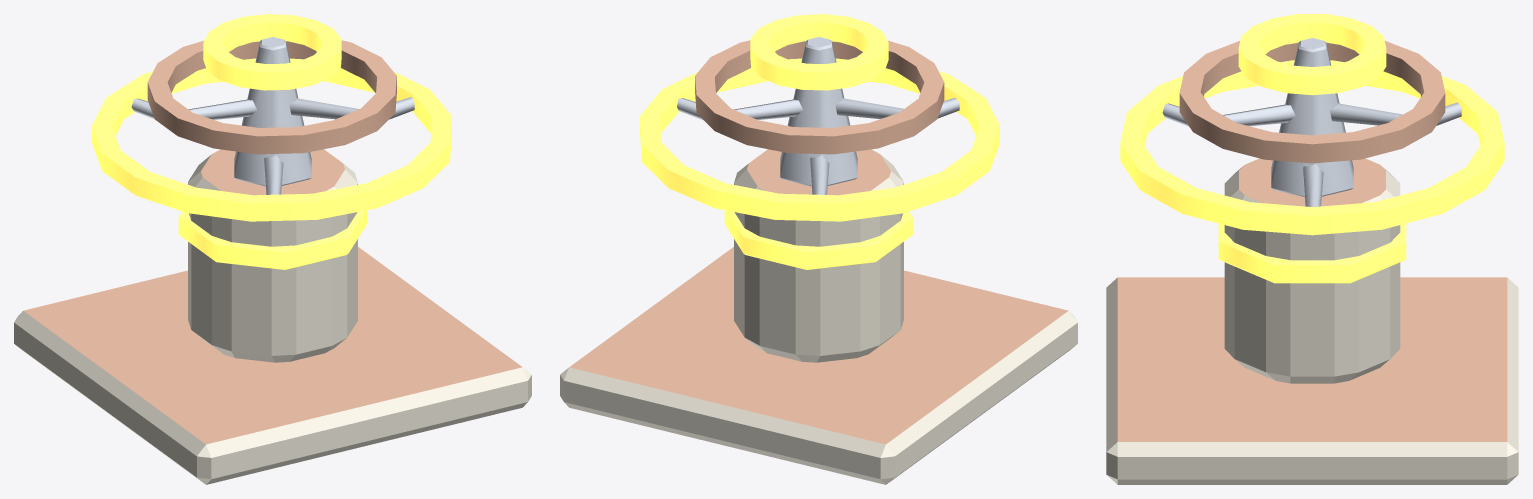
File: R4X_SupportTurretDeployer_LOD1.fbx
The picture shows the model from 3 angles, left to right: view 1: azimuth 30°, elevation 25°; view 2: azimuth 150°, elevation 25°; view 3: azimuth 270°, elevation 25°; orthographic projection. The views are drawn at different scales.
Visible parts, largest first — view 1: R4X_SupportTurretDeployer_LOD1; view 2: R4X_SupportTurretDeployer_LOD1; view 3: R4X_SupportTurretDeployer_LOD1.
Boxes of the visible parts, left/top/right/bottom form: R4X_SupportTurretDeployer_LOD1: left=14, top=14, right=531, bottom=484; R4X_SupportTurretDeployer_LOD1: left=560, top=14, right=1077, bottom=484; R4X_SupportTurretDeployer_LOD1: left=1106, top=14, right=1518, bottom=484.
Size of the model in its own units: 0.52 by 0.5 by 0.52.
